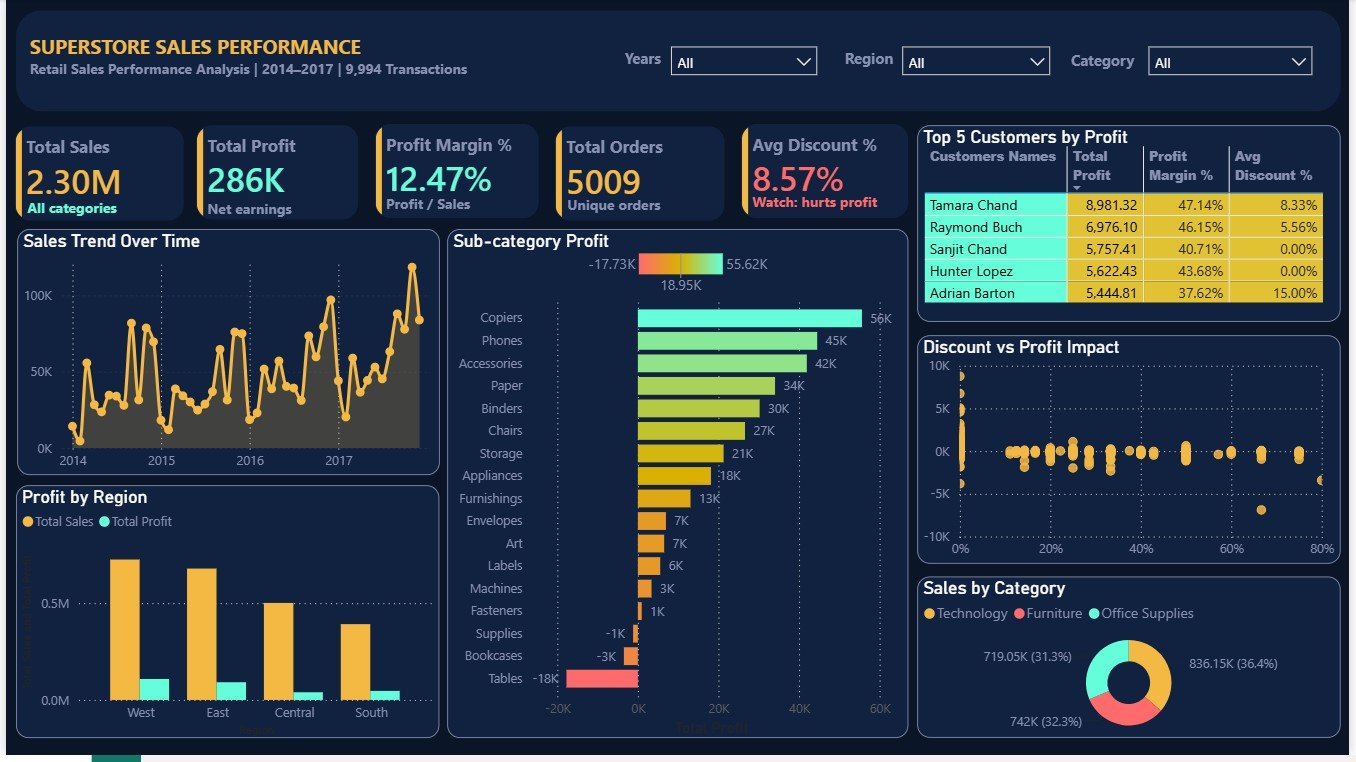

Layout of this report page (visuals, bound fields, positions):
{"tool":"powerbi","page":{"name":"Dashboard","canvas":[1280,720],"ordinal":0},"visuals":[{"type":"shape","box":[9.5,10.7,1261.9,96.4],"z":0},{"type":"textbox","box":[22.6,32.3,326.2,26.2],"z":1000},{"type":"textbox","box":[22.6,57.1,484.5,21.4],"z":2000},{"type":"cardVisual","fields":{"Data":["All_Measures.Total Sales"]},"box":[8.3,121.1,160.7,89.3],"z":3000,"group":"g2"},{"type":"areaChart","title":"Sales Trend Over Time","fields":{"Y":["All_Measures.Total Sales"],"Category":["Order_Date.Date.Variation.Date Hierarchy.Year","Order_Date.Date.Variation.Date Hierarchy.Month"]},"box":[10.7,219,402.4,234.5],"z":3000},{"type":"textbox","box":[20.7,189,107.6,17.9],"z":4000,"group":"g2"},{"type":"donutChart","title":"Sales by Category","fields":{"Y":["All_Measures.Total Sales"],"Category":["Sample - Superstore - csv3.category"]},"box":[867.9,550,403.6,153.6],"z":4000},{"type":"cardVisual","fields":{"Data":["All_Measures.Total Profit"]},"box":[180.8,120,154.8,89.3],"z":5000,"group":"g3"},{"type":"group","id":"g1","title":"Group 1","box":[522.4,121.1,161.9,89.3],"z":5000},{"type":"group","id":"g2","title":"Group 2","box":[8.3,121.1,160.7,89.3],"z":6000},{"type":"textbox","box":[191.8,190.2,109.8,19],"z":6000,"group":"g3"},{"type":"cardVisual","fields":{"Data":["All_Measures.Profit Margin %"]},"box":[351.4,118.8,156,89.3],"z":7000,"group":"g4"},{"type":"group","id":"g3","title":"Group 3","box":[180.8,120,154.8,89.3],"z":7000},{"type":"group","id":"g4","title":"Group 4","box":[351.4,118.8,156,89.3],"z":8000},{"type":"textbox","box":[362.1,185.8,113.2,19],"z":8000,"group":"g4"},{"type":"group","id":"g5","title":"Group 5","box":[700,119.3,159.5,89.3],"z":9000},{"type":"cardVisual","fields":{"Data":["All_Measures.Total Orders"]},"box":[522.4,121.1,161.9,89.3],"z":9000,"group":"g1"},{"type":"tableEx","title":"Top 5 Customers by Profit","fields":{"Values":["Sample - Superstore - csv3.customer_name","All_Measures.Total Profit","All_Measures.Profit Margin %","All_Measures.Avg Discount %"]},"box":[867.9,120.2,403.6,186.9],"z":10000},{"type":"textbox","box":[534.4,186.2,136.4,19],"z":10000,"group":"g1"},{"type":"cardVisual","fields":{"Data":["All_Measures.Avg Discount %"]},"box":[700,119.3,159.5,89.3],"z":11000,"group":"g5"},{"type":"barChart","title":"Sub-category Profit","fields":{"Y":["All_Measures.Total Profit"],"Category":["Sample - Superstore - csv3.sub_category"]},"box":[420.2,219,439.3,484.5],"z":11000},{"type":"textbox","box":[710.9,183.8,132.4,21.4],"z":12000,"group":"g5"},{"type":"clusteredColumnChart","title":"Profit by Region","fields":{"Y":["All_Measures.Total Sales","All_Measures.Total Profit"],"Category":["Sample - Superstore - csv3.region"]},"box":[9.5,463.1,403.6,240.5],"z":12000},{"type":"slicer","fields":{"Values":["Sample - Superstore - csv3.region"]},"box":[848.3,40.4,150.9,42.5],"z":13000},{"type":"slicer","fields":{"Values":["Sample - Superstore - csv3.category"]},"box":[1083.3,40.5,165.5,39.3],"z":14000},{"type":"textbox","box":[589.8,46,77.4,22.6],"z":15000},{"type":"textbox","box":[1014.1,48.8,70.2,21.4],"z":16000},{"type":"textbox","box":[798.6,46.4,52.4,23.8],"z":17000},{"type":"slicer","fields":{"Values":["Order_Date.Year"]},"box":[628.6,40.5,148.8,41.7],"z":18000},{"type":"scatterChart","title":"Discount vs Profit Impact","fields":{"Category":["Sample - Superstore - csv3.order_id"],"Y":["All_Measures.Total Profit"],"X":["All_Measures.Avg Discount %"]},"box":[867.9,320.2,403.6,217.9],"z":19000}]}

Visuals, with their boxes in screenshot pixels (x1, y1, x2, y2), scaled from the page's 1280x720 canvas onto the 1356x762 screenshot:
shape: x1=10, y1=11, x2=1347, y2=113
textbox: x1=24, y1=34, x2=370, y2=62
textbox: x1=24, y1=60, x2=537, y2=83
cardVisual - All_Measures.Total Sales: x1=9, y1=128, x2=179, y2=223
"Sales Trend Over Time" areaChart: x1=11, y1=232, x2=438, y2=480
textbox: x1=22, y1=200, x2=136, y2=219
"Sales by Category" donutChart: x1=919, y1=582, x2=1347, y2=745
cardVisual - All_Measures.Total Profit: x1=192, y1=127, x2=356, y2=222
"Group 1" group: x1=553, y1=128, x2=725, y2=223
"Group 2" group: x1=9, y1=128, x2=179, y2=223
textbox: x1=203, y1=201, x2=320, y2=221
cardVisual - All_Measures.Profit Margin %: x1=372, y1=126, x2=538, y2=220
"Group 3" group: x1=192, y1=127, x2=356, y2=222
"Group 4" group: x1=372, y1=126, x2=538, y2=220
textbox: x1=384, y1=197, x2=504, y2=217
"Group 5" group: x1=742, y1=126, x2=911, y2=221
cardVisual - All_Measures.Total Orders: x1=553, y1=128, x2=725, y2=223
"Top 5 Customers by Profit" tableEx: x1=919, y1=127, x2=1347, y2=325
textbox: x1=566, y1=197, x2=711, y2=217
cardVisual - All_Measures.Avg Discount %: x1=742, y1=126, x2=911, y2=221
"Sub-category Profit" barChart: x1=445, y1=232, x2=911, y2=745
textbox: x1=753, y1=195, x2=893, y2=217
"Profit by Region" clusteredColumnChart: x1=10, y1=490, x2=438, y2=745
slicer - Sample - Superstore - csv3.region: x1=899, y1=43, x2=1059, y2=88
slicer - Sample - Superstore - csv3.category: x1=1148, y1=43, x2=1323, y2=84
textbox: x1=625, y1=49, x2=707, y2=73
textbox: x1=1074, y1=52, x2=1149, y2=74
textbox: x1=846, y1=49, x2=902, y2=74
slicer - Order_Date.Year: x1=666, y1=43, x2=824, y2=87
"Discount vs Profit Impact" scatterChart: x1=919, y1=339, x2=1347, y2=569
